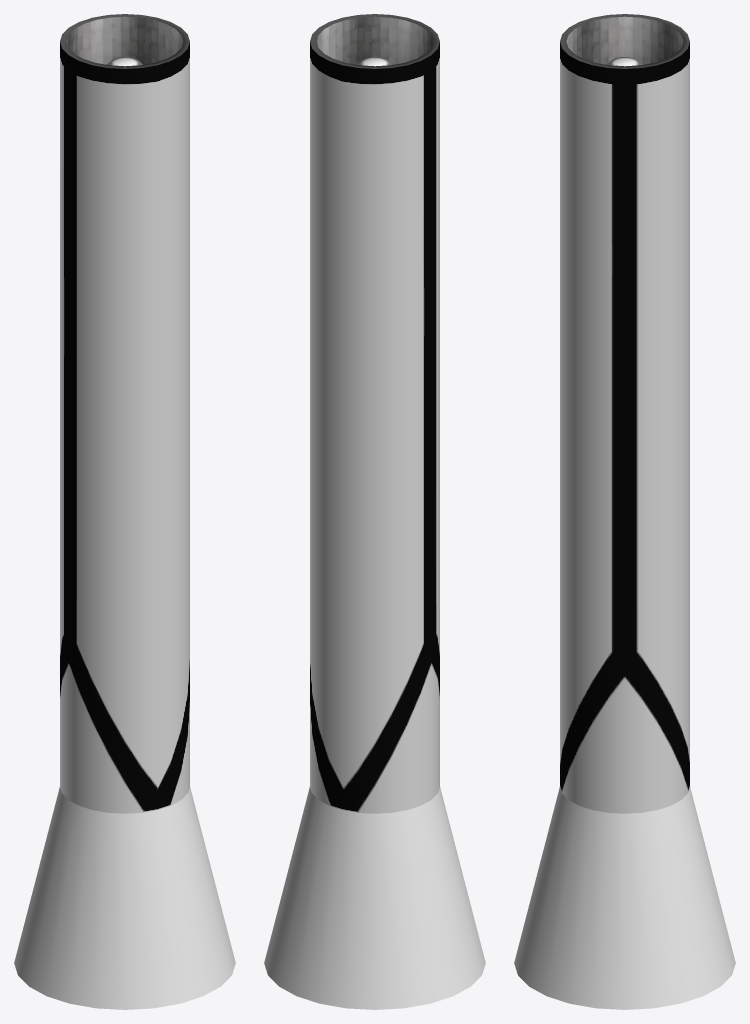
The model's file is Able_1.obj.
3 views of the same model, side by side, from view 1: azimuth 30°, elevation 25°; view 2: azimuth 150°, elevation 25°; view 3: azimuth 270°, elevation 25° (orthographic).
Parts seen in each view (by area): view 1: Cylinder1; view 2: Cylinder1; view 3: Cylinder1.
Part boxes in pixels (x1,y1,x2,y2): Cylinder1: (14, 14, 235, 1009); Cylinder1: (264, 14, 485, 1009); Cylinder1: (514, 14, 735, 1009).
Size of the model in its own units: 1.5 by 6.88 by 1.5.
